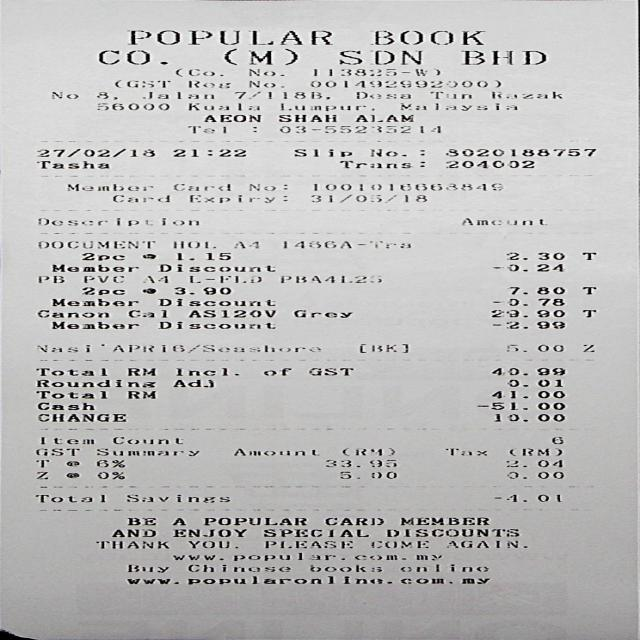text: (127, 30, 331, 44), (186, 576, 488, 584), (100, 343, 319, 352), (232, 552, 440, 561), (369, 30, 483, 45), (278, 124, 444, 134), (310, 80, 499, 88), (313, 183, 496, 191), (458, 50, 544, 65), (37, 218, 197, 226), (339, 50, 421, 65), (224, 48, 296, 65), (445, 148, 594, 156), (384, 529, 518, 537), (36, 148, 153, 157), (282, 240, 409, 248), (97, 50, 166, 64), (35, 379, 154, 387), (398, 103, 516, 111), (156, 298, 274, 306), (156, 321, 274, 329), (309, 194, 425, 202), (37, 240, 153, 248), (158, 264, 274, 272), (205, 517, 307, 526), (312, 69, 439, 76), (188, 194, 286, 203), (124, 494, 231, 502), (262, 529, 368, 537), (95, 448, 198, 456), (187, 564, 289, 572), (279, 275, 380, 283), (37, 413, 125, 422), (234, 92, 328, 100), (280, 103, 372, 111), (398, 564, 487, 572), (475, 402, 563, 410), (263, 540, 351, 548), (445, 160, 532, 168), (50, 264, 137, 272), (50, 298, 137, 306), (51, 321, 138, 329), (188, 310, 274, 318), (232, 448, 318, 456), (339, 160, 423, 168), (94, 540, 168, 549), (406, 517, 488, 525), (446, 540, 526, 548), (486, 310, 563, 318), (493, 494, 559, 503), (34, 160, 108, 168), (34, 494, 108, 502), (171, 529, 245, 537), (323, 516, 382, 526), (67, 184, 151, 191), (187, 275, 260, 283), (35, 310, 108, 318), (491, 367, 564, 375), (33, 368, 106, 376), (172, 148, 244, 156), (460, 218, 542, 225), (187, 102, 258, 110), (492, 414, 563, 422), (309, 564, 380, 572), (490, 91, 560, 99), (492, 264, 562, 272), (488, 298, 564, 305), (94, 103, 168, 110), (491, 321, 564, 328), (491, 391, 564, 398), (33, 391, 106, 398), (141, 92, 213, 99), (175, 368, 238, 376), (323, 460, 395, 467), (358, 343, 407, 353), (112, 437, 181, 444), (504, 252, 563, 260), (292, 310, 351, 318), (502, 379, 561, 387), (341, 447, 393, 456), (354, 114, 412, 122), (504, 344, 562, 352), (293, 149, 350, 157), (36, 402, 93, 410), (504, 460, 561, 468), (505, 471, 562, 479), (370, 540, 427, 548), (112, 80, 168, 88), (278, 114, 334, 122), (203, 114, 259, 122), (508, 286, 564, 294), (339, 471, 395, 479), (369, 148, 423, 156), (175, 252, 229, 260), (40, 436, 92, 444), (508, 448, 560, 456), (186, 540, 236, 548), (173, 287, 230, 294), (354, 92, 410, 99), (173, 184, 229, 191), (112, 195, 168, 202), (35, 345, 89, 352), (175, 68, 222, 76), (109, 529, 154, 537), (34, 448, 78, 456), (171, 240, 214, 248), (80, 252, 123, 260), (80, 287, 123, 295), (187, 80, 229, 88), (428, 91, 470, 99), (171, 379, 213, 387), (187, 125, 224, 134), (444, 448, 485, 456), (126, 564, 167, 572), (83, 275, 122, 283), (125, 578, 177, 584), (171, 554, 222, 560), (127, 310, 165, 318), (309, 368, 352, 375), (248, 80, 282, 88), (248, 183, 286, 190), (248, 69, 282, 76), (125, 517, 154, 525), (262, 368, 290, 376), (126, 368, 154, 376), (95, 460, 123, 468), (95, 471, 123, 479), (38, 275, 63, 283), (126, 391, 154, 398), (50, 92, 76, 99), (96, 92, 116, 100), (146, 275, 166, 283), (233, 242, 257, 248), (34, 459, 48, 468), (580, 252, 594, 260), (171, 517, 184, 525), (582, 286, 594, 294), (582, 310, 594, 318), (34, 471, 46, 479), (550, 437, 562, 444), (64, 472, 78, 478), (582, 344, 592, 352), (64, 461, 78, 466)
